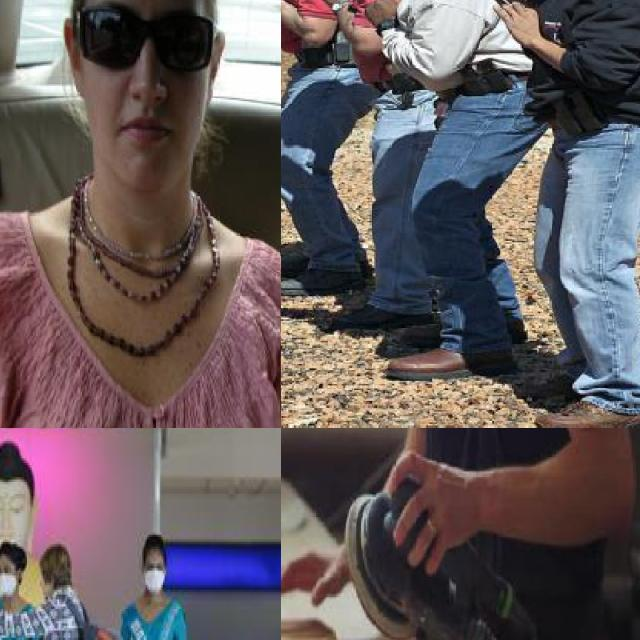face_mask: (144, 556, 166, 592), (0, 561, 15, 594)
face_nomask: (73, 0, 212, 166), (38, 566, 59, 602)
glasses: (325, 0, 534, 369), (490, 0, 640, 428), (281, 0, 367, 295), (86, 14, 204, 67)
hand_noglove: (378, 444, 483, 574), (281, 543, 357, 617), (485, 0, 544, 47)
head_nohelmet: (38, 537, 75, 585), (0, 535, 19, 566), (142, 535, 166, 556)
person: (0, 0, 281, 428), (335, 428, 636, 640), (105, 532, 196, 640), (23, 525, 97, 640)
shoes: (385, 338, 520, 391), (533, 388, 640, 428), (330, 296, 432, 332), (281, 257, 367, 296)
